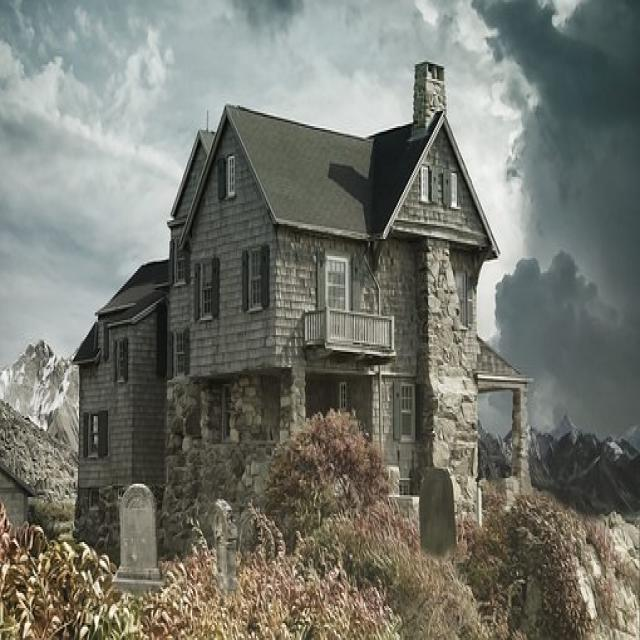Normal_building: (66, 59, 528, 568)
